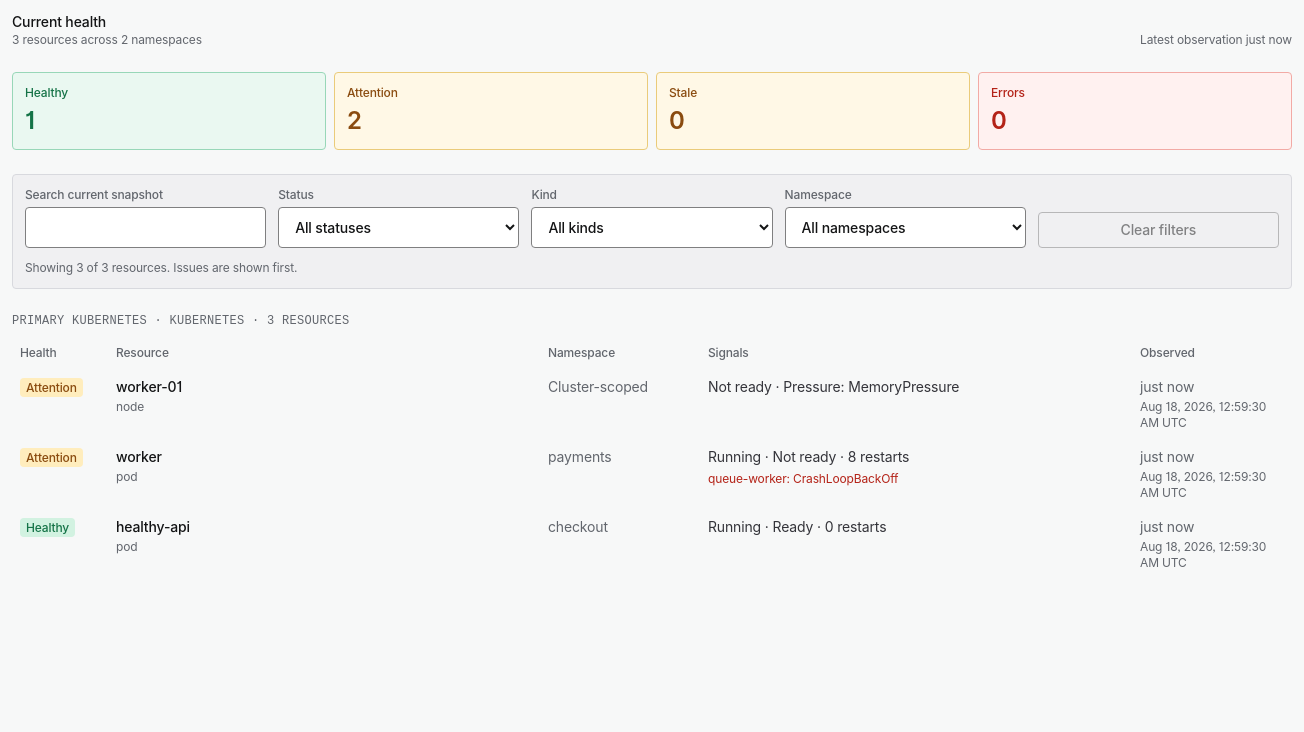
Test case: InfrastructureList › searches operational detail and filters by status, kind, and namespace
This screenshot has width=1304, height=732.
In the search field labelled "Search current snapshot": {"x": 146, "y": 228} x1=25 y1=207 x2=266 y2=248, type "CrashLoopBackOff"
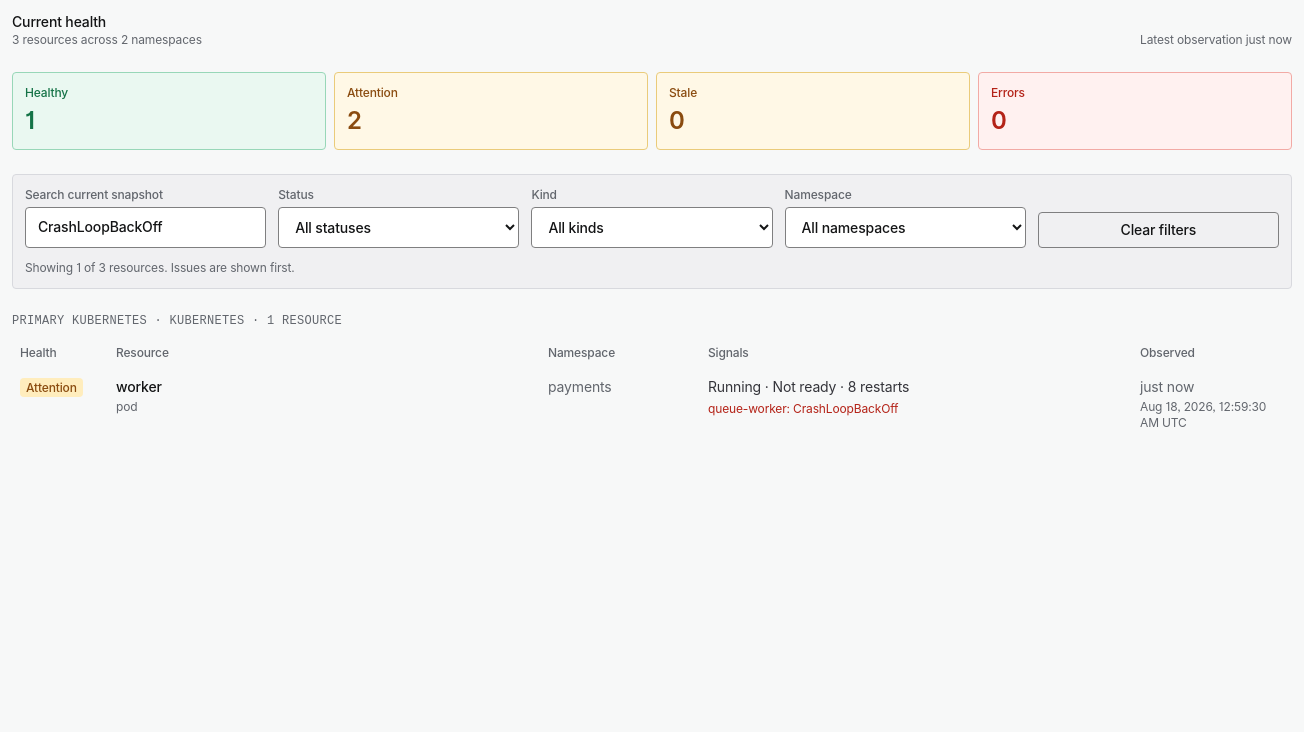
Expected: the text "worker" is shown, x1=116 y1=378 x2=162 y2=395
Now the text "healthy-api" is gone
Now the message shows "Showing 1 of 3", box x1=25 y1=260 x2=295 y2=275
Click the button "Clear filters": {"x": 1158, "y": 230} x1=1038 y1=212 x2=1279 y2=248
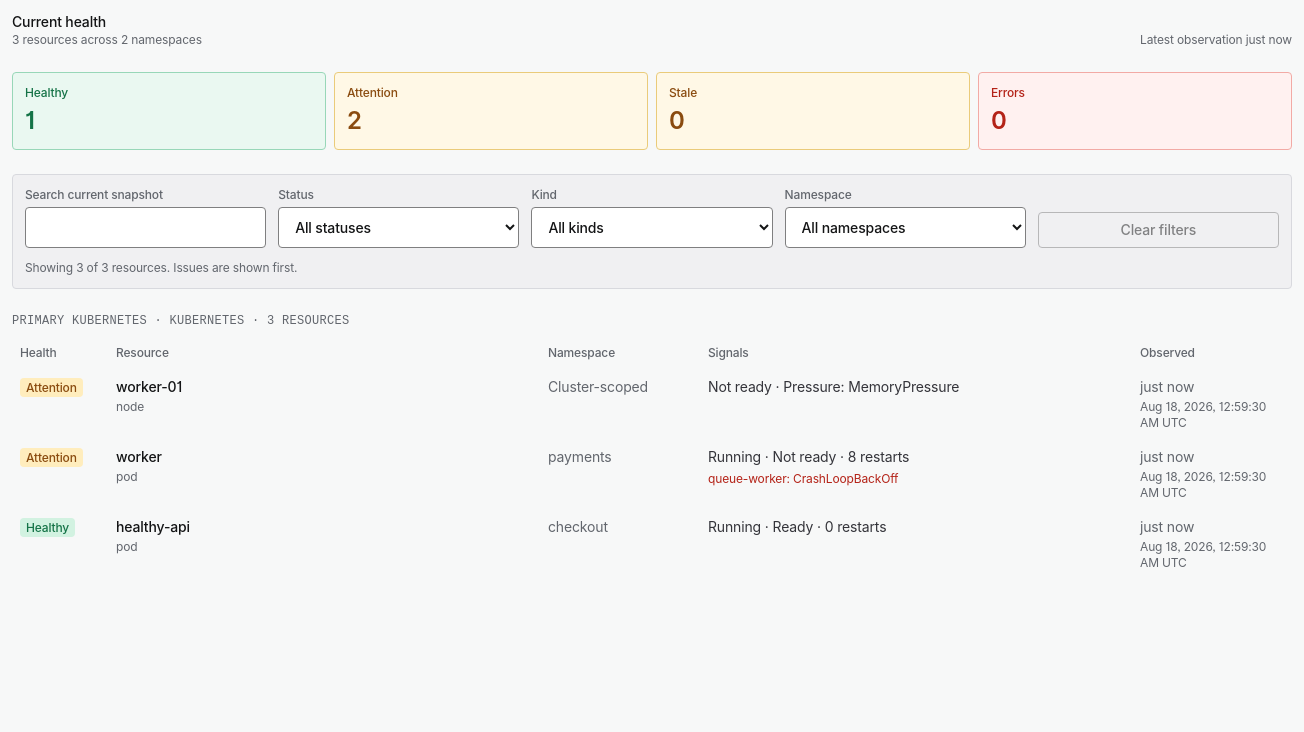
Select "All issues" in the dropdown labelled "Status": {"x": 399, "y": 228} x1=278 y1=207 x2=519 y2=248
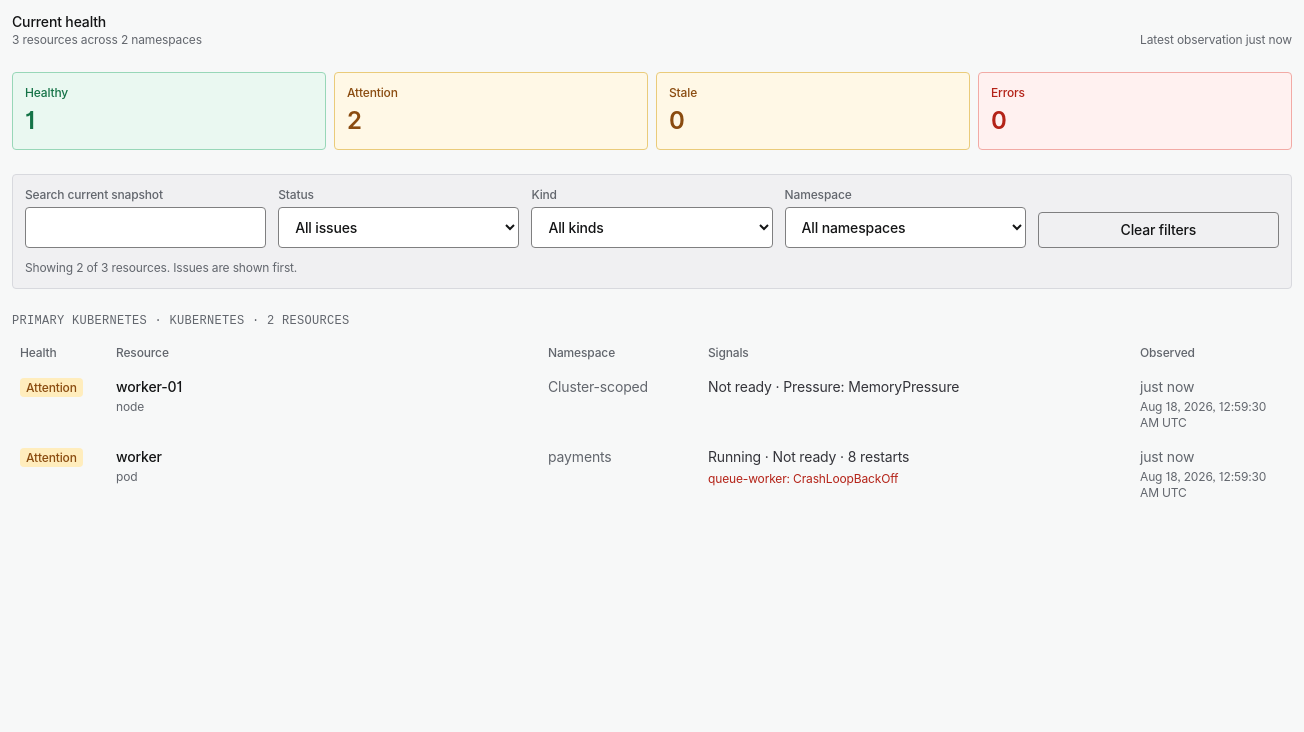
Expected: the text "worker" is shown, x1=116 y1=448 x2=162 y2=465
Now the text "worker-01" is shown, box x1=116 y1=378 x2=182 y2=395
Now the text "healthy-api" is gone
Select "Nodes" in the dropdown labelled "Kind": {"x": 652, "y": 228} x1=531 y1=207 x2=773 y2=248
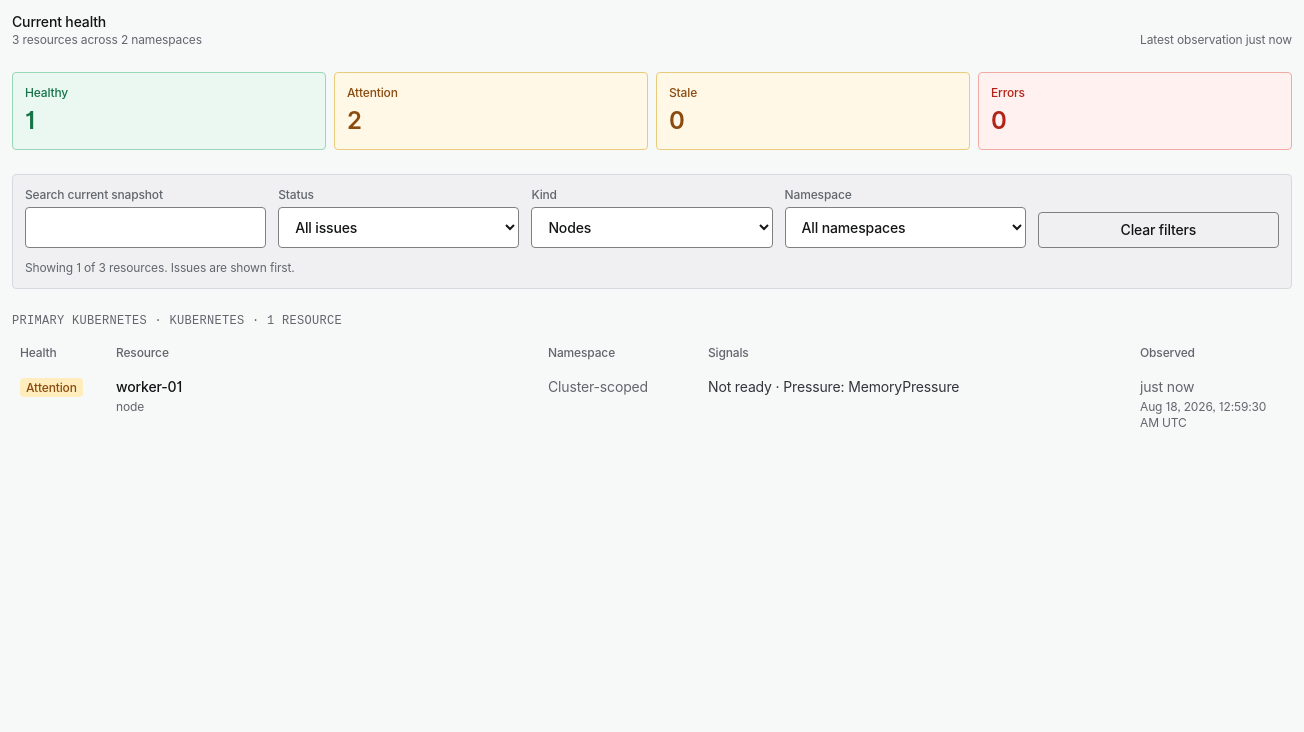
Now the text "worker-01" is shown, box x1=116 y1=378 x2=182 y2=395
Click the button "Clear filters": {"x": 1158, "y": 230} x1=1038 y1=212 x2=1279 y2=248
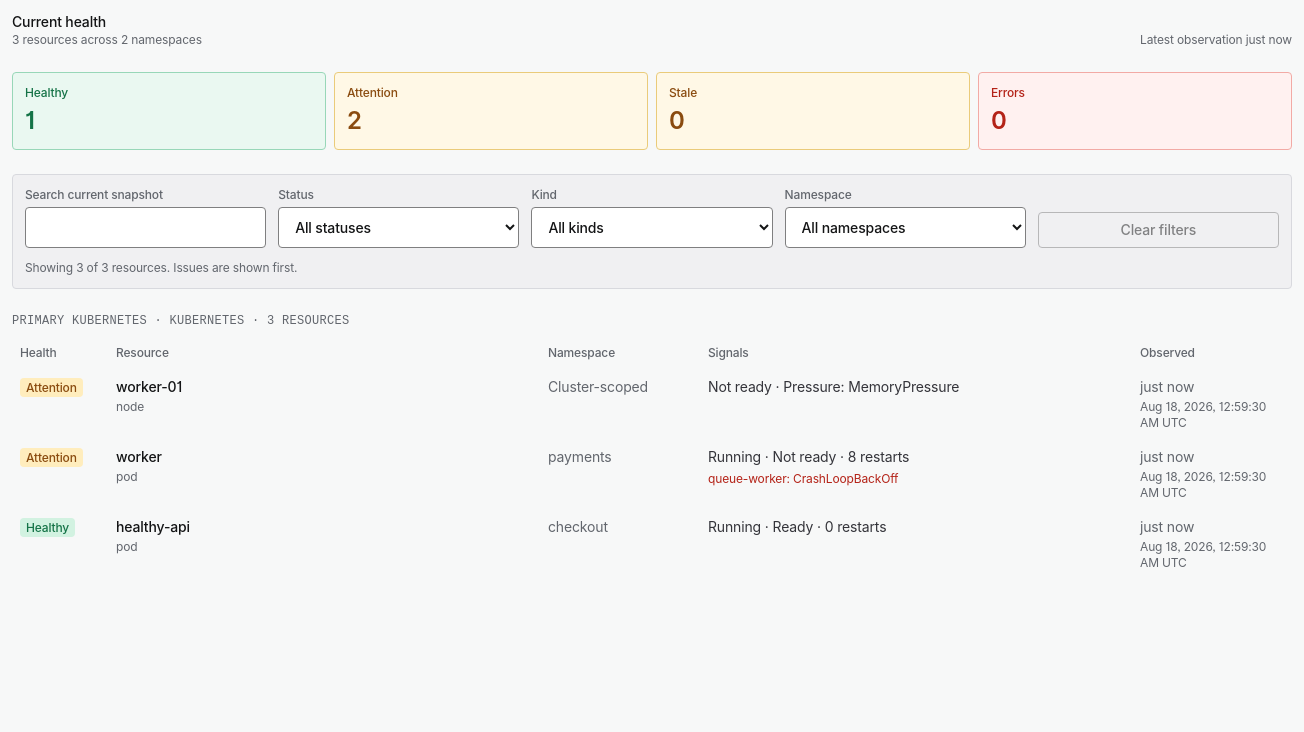
Select "payments" in the dropdown labelled "Namespace": {"x": 905, "y": 228} x1=785 y1=207 x2=1026 y2=248
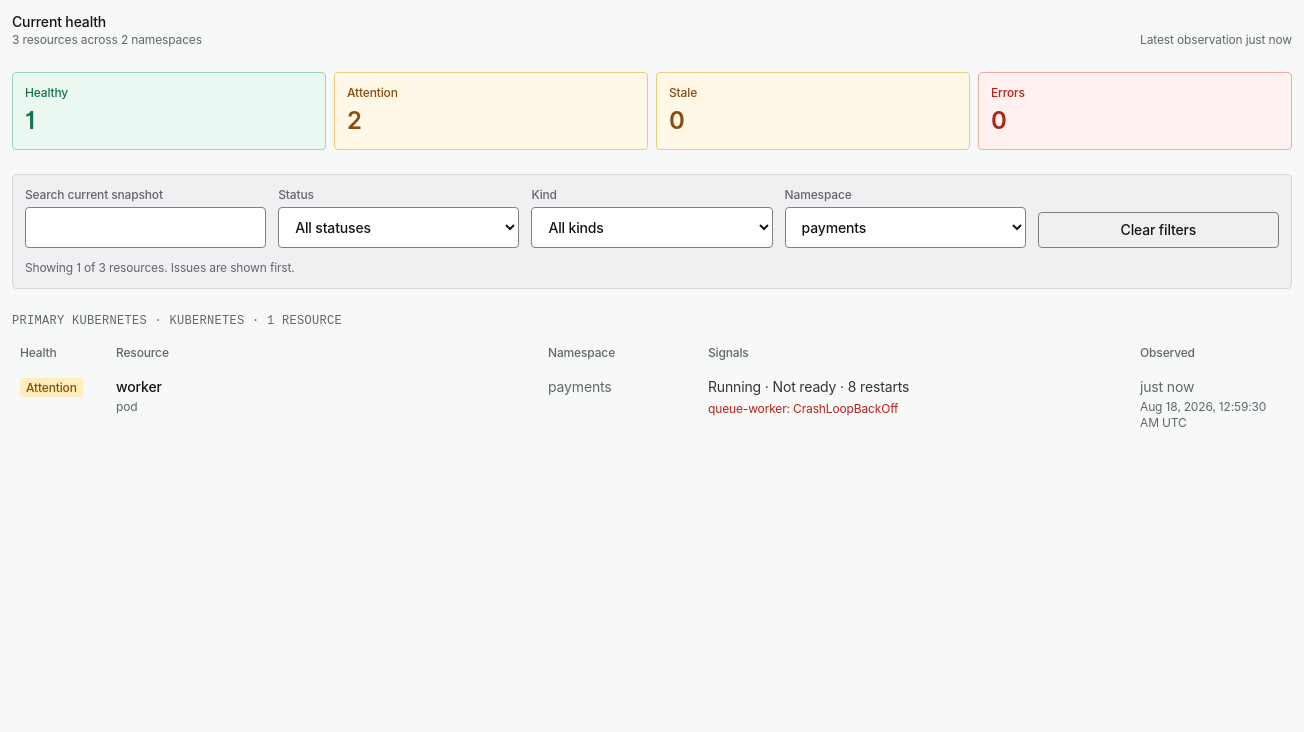
Expected: the text "worker" is shown, x1=116 y1=378 x2=162 y2=395
Now the text "healthy-api" is gone
Now the text "worker-01" is gone
